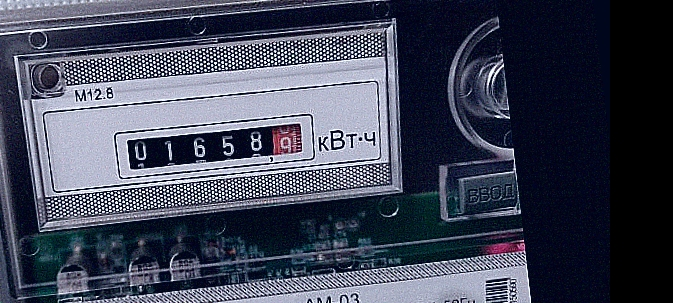0: (132, 138, 148, 162)
1: (162, 138, 175, 161)
5: (219, 132, 236, 157)
6: (190, 135, 207, 158)
8: (247, 128, 263, 151)
9: (276, 134, 292, 156)
screen: (107, 103, 324, 187)
